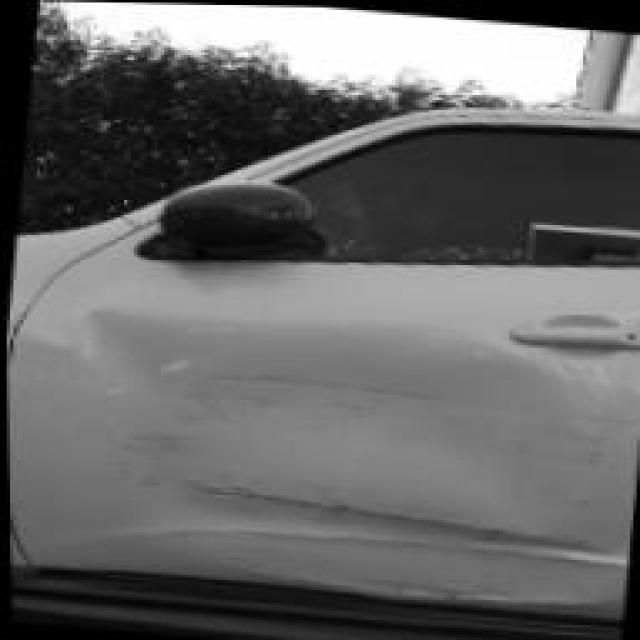Door: (3, 220, 640, 636)
